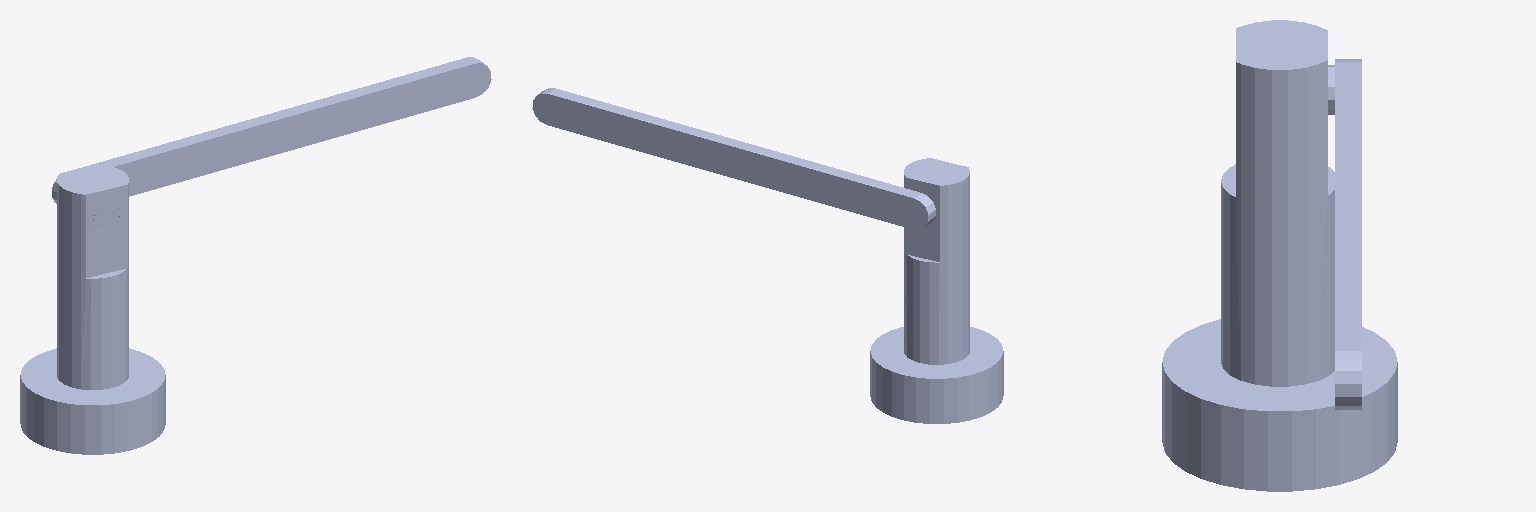
The robot description file, URDF, robot "Assem_test8":
<?xml version="1.0" encoding="utf-8"?>
<!-- This URDF was automatically created by SolidWorks to URDF Exporter! Originally created by [author] ([email redacted]) 
     Commit Version: 1.4.4-24-g24328f6  Build Version: 1.5.7084.36479
     For more information, please see http://wiki.ros.org/sw_urdf_exporter -->
<robot
  name="Assem_test8">
  <link
    name="base_link">
    <inertial>
      <origin
        xyz="2.1955E-19 0.00010834 0.072357"
        rpy="0 0 0" />
      <mass
        value="0.9643" />
      <inertia
        ixx="0.0044331"
        ixy="-3.894E-21"
        ixz="-1.7199E-20"
        iyy="0.0044524"
        iyz="-1.144E-05"
        izz="0.0011149" />
    </inertial>
    <visual>
      <origin
        xyz="0 0 0"
        rpy="0 0 0" />
      <geometry>
        <mesh
          filename="package://Assem_test8/meshes/base_link.STL" />
      </geometry>
      <material
        name="">
        <color
          rgba="0.79216 0.81961 0.93333 1" />
      </material>
    </visual>
    <collision>
      <origin
        xyz="0 0 0"
        rpy="0 0 0" />
      <geometry>
        <mesh
          filename="package://Assem_test8/meshes/base_link.STL" />
      </geometry>
    </collision>
  </link>
  <link
    name="arm">
    <inertial>
      <origin
        xyz="0.16597 0.053505 -1.9429E-16"
        rpy="0 0 0" />
      <mass
        value="0.19992" />
      <inertia
        ixx="4.6655E-05"
        ixy="-0.00013781"
        ixz="4.4037E-18"
        iyy="0.0032199"
        iyz="1.9297E-19"
        izz="0.0032364" />
    </inertial>
    <visual>
      <origin
        xyz="0 0 0"
        rpy="0 0 0" />
      <geometry>
        <mesh
          filename="package://Assem_test8/meshes/arm.STL" />
      </geometry>
      <material
        name="">
        <color
          rgba="0.79216 0.81961 0.93333 1" />
      </material>
    </visual>
    <collision>
      <origin
        xyz="0 0 0"
        rpy="0 0 0" />
      <geometry>
        <mesh
          filename="package://Assem_test8/meshes/arm.STL" />
      </geometry>
    </collision>
  </link>
  <joint
    name="arm_joint"
    type="continuous">
    <origin
      xyz="0 -0.022595 0.19765"
      rpy="0 -0.039919 0" />
    <parent
      link="base_link" />
    <child
      link="arm" />
    <axis
      xyz="0 1 0" />
    <safety_controller
      k_velocity="0" />
  </joint>
</robot>

--- Facts derived from the render (not from the file) ---
The picture shows the robot from 3 angles, left to right: view 1: azimuth 30°, elevation 25°; view 2: azimuth 150°, elevation 25°; view 3: azimuth 270°, elevation 25°; orthographic projection.
Robot: Assem_test8 — 2 links, 1 joints (1 continuous); root link base_link; default pose: every joint at zero.
Visible links, largest first — view 1: base_link, arm; view 2: base_link, arm; view 3: base_link, arm.
Link boxes in pixels (bbox=[...]): base_link: bbox=[20, 164, 165, 454]; arm: bbox=[52, 57, 491, 230]; base_link: bbox=[870, 158, 1003, 423]; arm: bbox=[532, 88, 935, 229]; base_link: bbox=[1162, 20, 1397, 491]; arm: bbox=[1328, 59, 1361, 409].
Size in the robot's own frame: 0.4557 by 0.1198 by 0.2285 metres.
2 mesh visuals loaded from 2 distinct referenced files (2 binary STL).